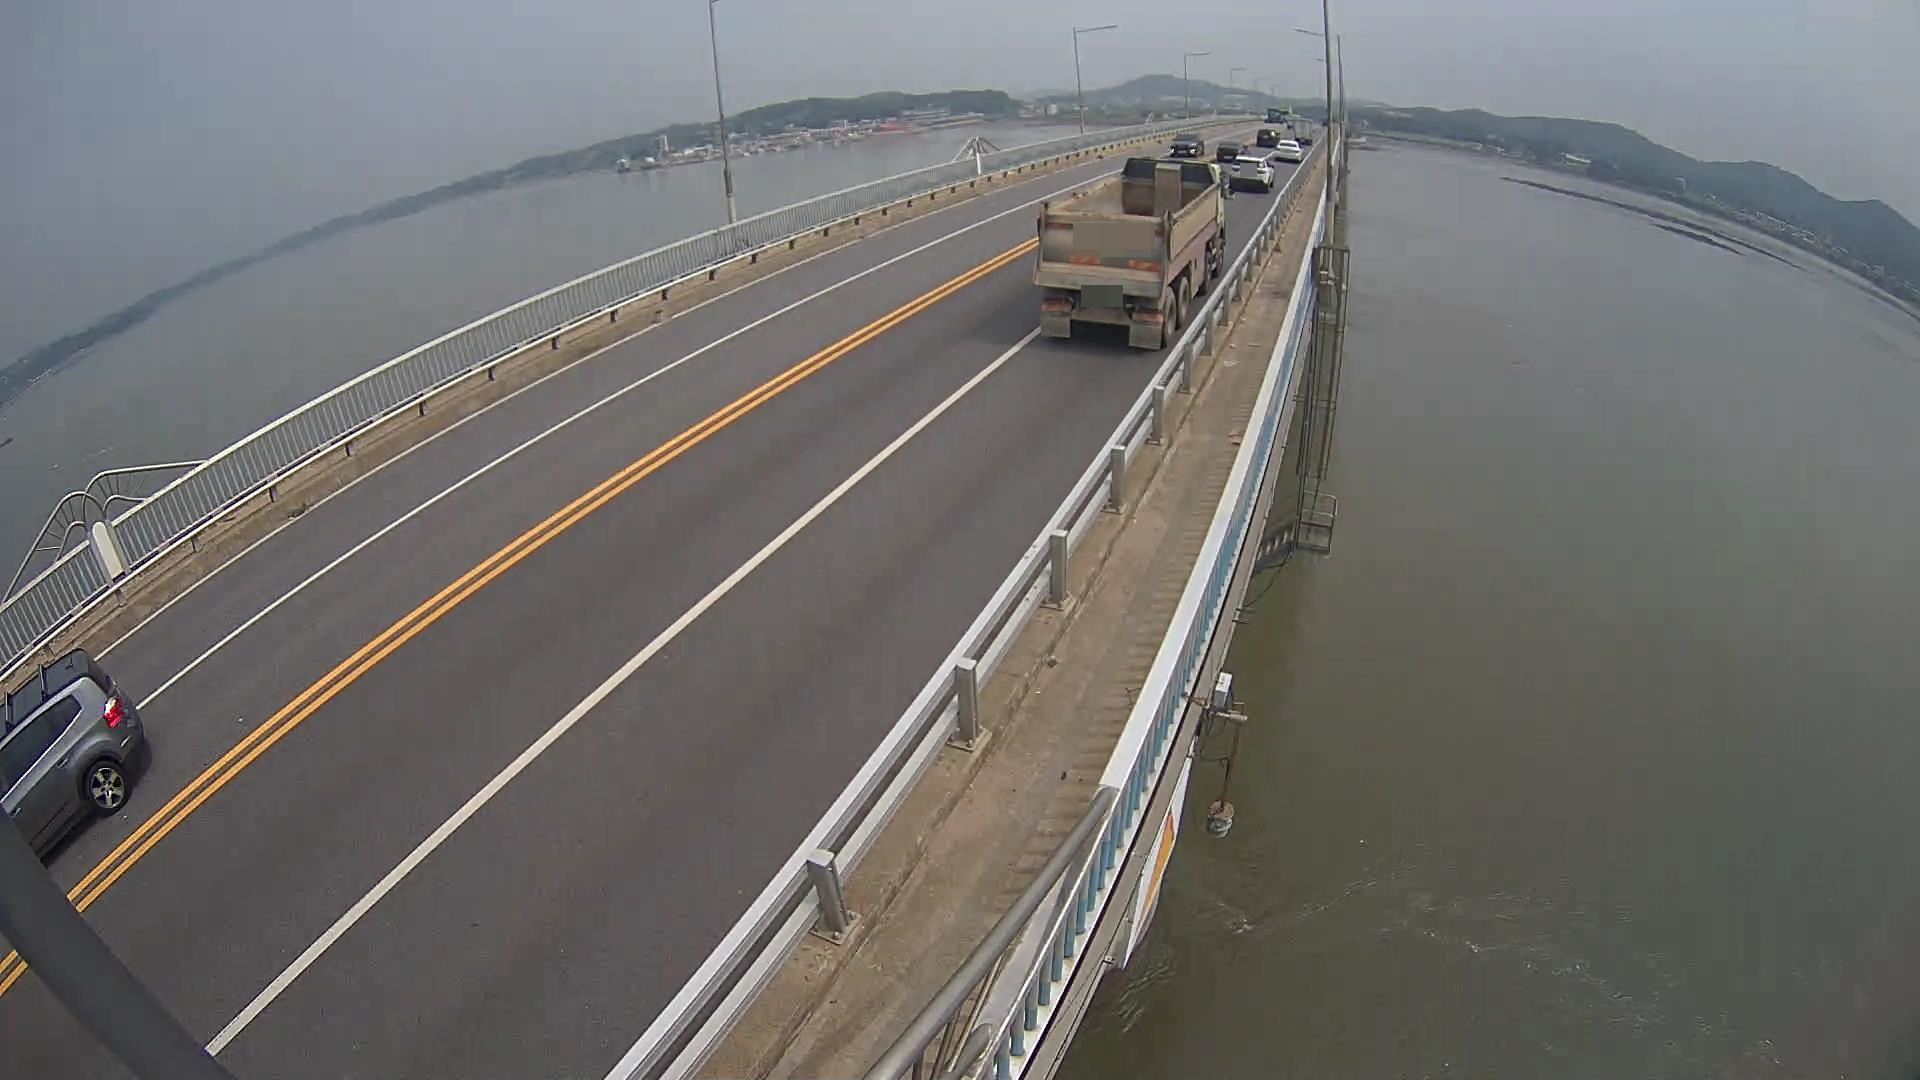정상차량: (1033, 156, 1236, 349)
